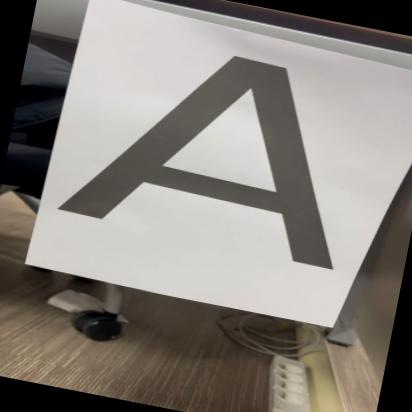seat: (54, 17, 383, 273)
